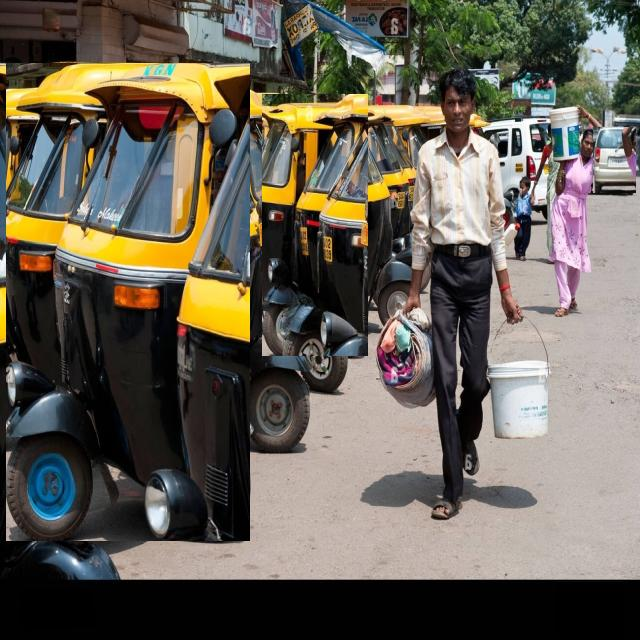autorickshaw: (6, 63, 250, 541), (112, 63, 310, 452), (218, 88, 348, 391), (262, 94, 368, 356), (297, 102, 410, 323)
car: (593, 127, 635, 193)
